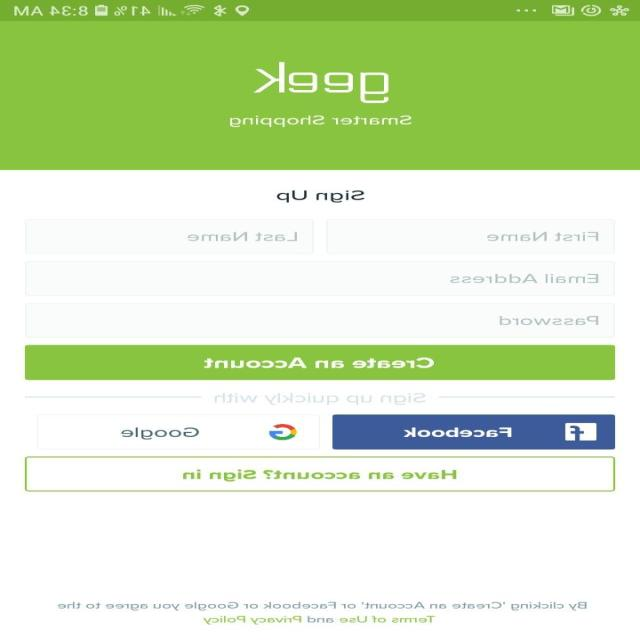EditText: (26, 303, 616, 338), (25, 261, 615, 296), (326, 218, 616, 254), (26, 218, 316, 254)
Text: (58, 601, 586, 624), (253, 62, 389, 103), (214, 392, 426, 405), (231, 115, 414, 127), (450, 273, 600, 283), (276, 190, 366, 203), (487, 231, 599, 241), (188, 232, 298, 242), (498, 316, 600, 325)
TextButton: (26, 456, 616, 492), (26, 344, 616, 380), (38, 414, 321, 450), (332, 414, 616, 449)
